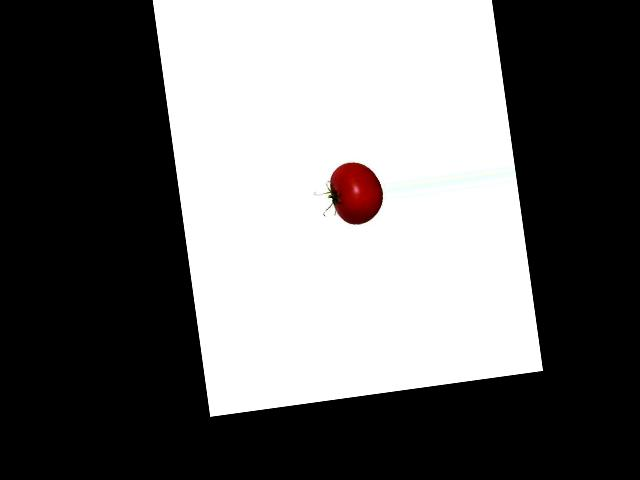tomato: (327, 159, 386, 226)
